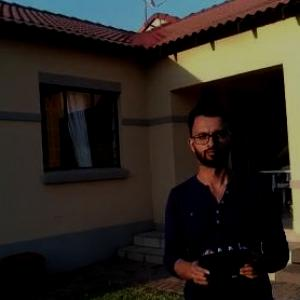follow: (160, 94, 294, 299)
